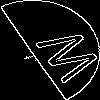W: (25, 25, 100, 89)
